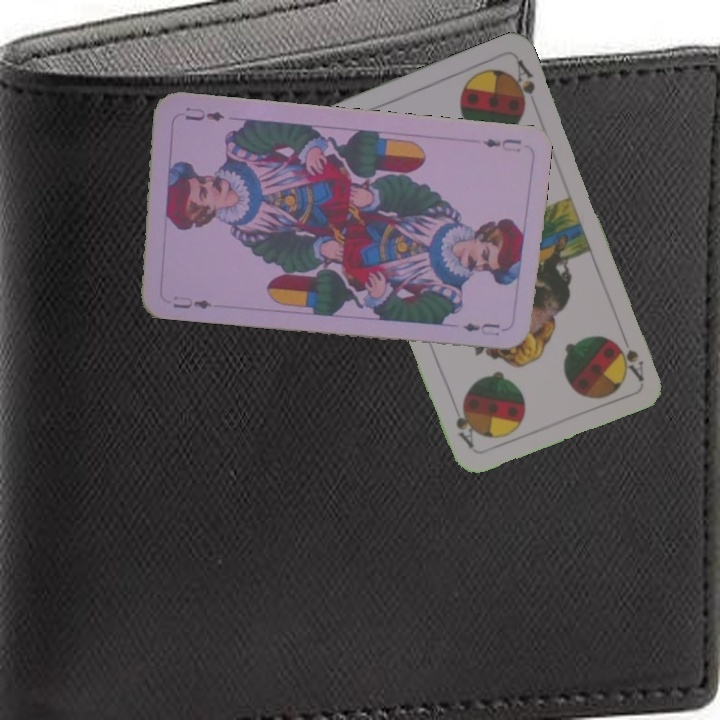EU: (169, 291, 214, 312), (479, 134, 524, 155)
SA: (612, 326, 647, 383)
